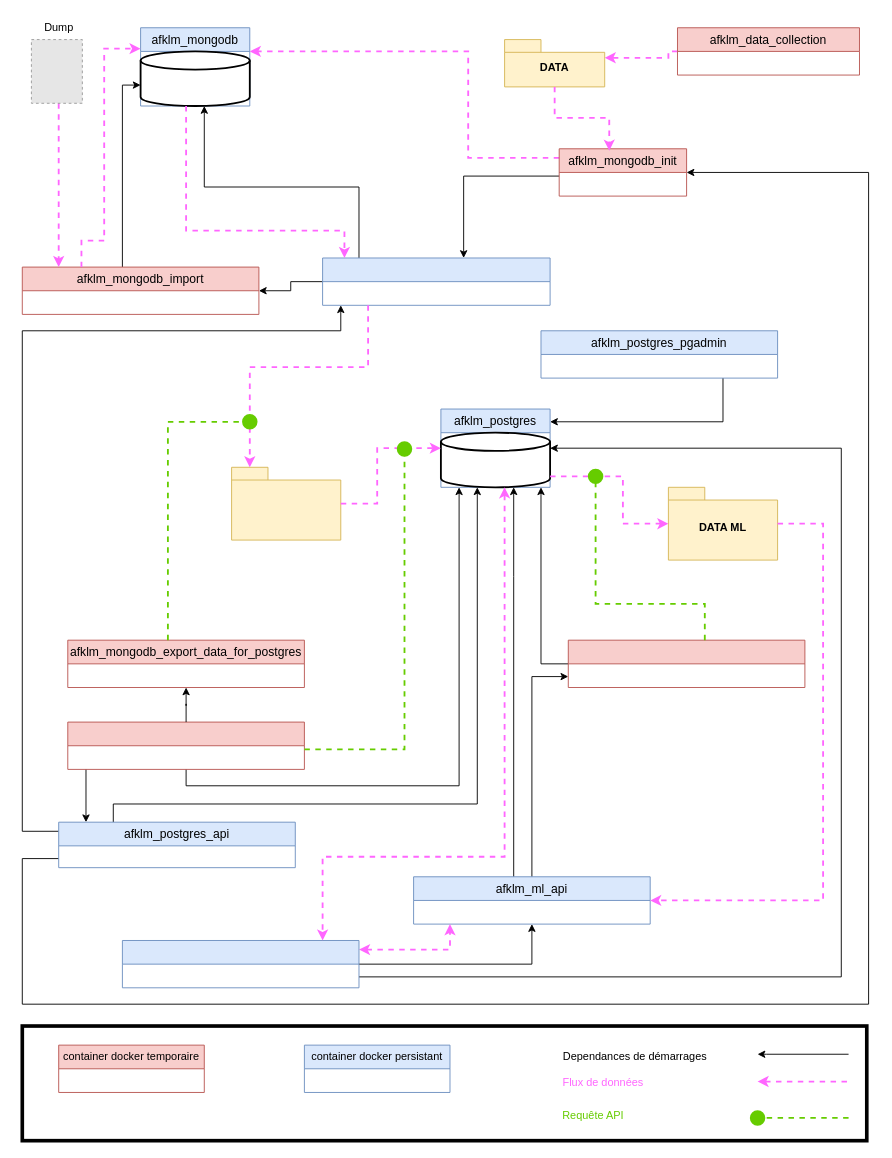
Some shapes in this 892 by 1158 pixel diagram are drawn without their labels. Grey dashed boxes stand in for pictures. The centre of each missing label's shape, as x and y in pixels:
afklm_dashboad_api: pixel 240 964
afklm_export_postgres_data_to_ml: pixel 686 663
afklm_load_input_data_into_postgres: pixel 185 745
afklm_mongodb_api: pixel 436 281
DATA INPUT: pixel 286 503
MongoDB: pixel 194 78
PostgreSQL: pixel 495 459
